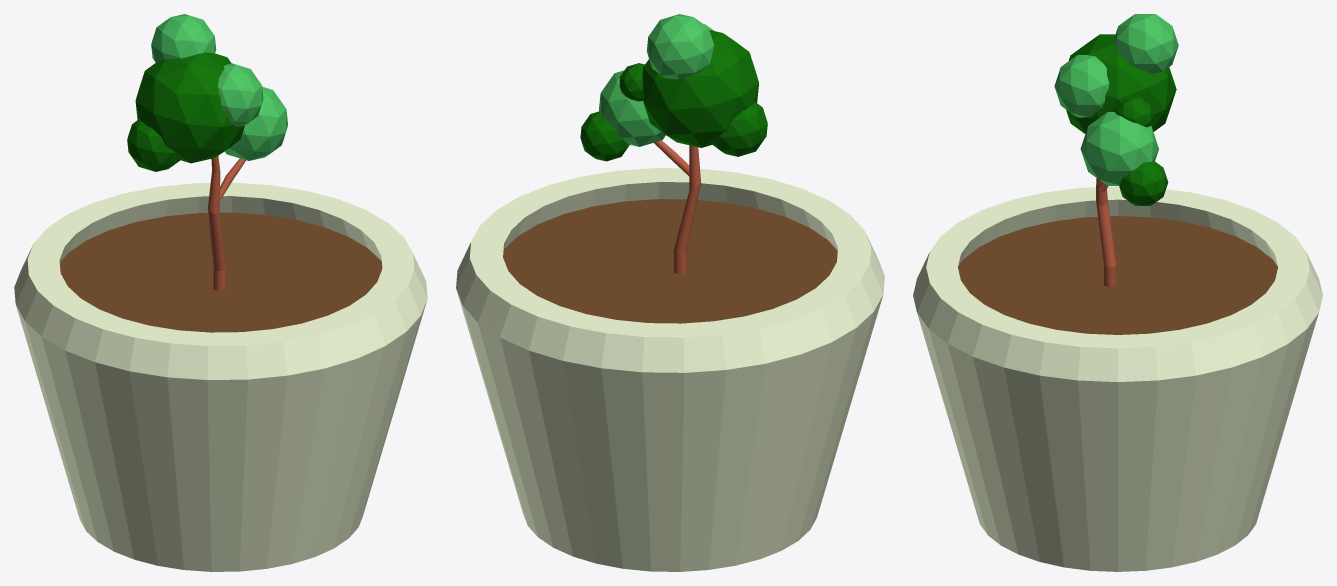
File: saksı.fbx
3 renders of one model, left to right at view 1: azimuth 30°, elevation 25°; view 2: azimuth 150°, elevation 25°; view 3: azimuth 270°, elevation 25°, orthographic. The views are drawn at different scales.
Parts seen in each view (by area): view 1: Cylinder; view 2: Cylinder; view 3: Cylinder.
Part boxes in pixels (x1,y1,x2,y2): Cylinder: (14, 14, 427, 571); Cylinder: (456, 14, 884, 571); Cylinder: (913, 14, 1322, 571).
Bounding box in the file's own units: 216 × 283 × 216.
